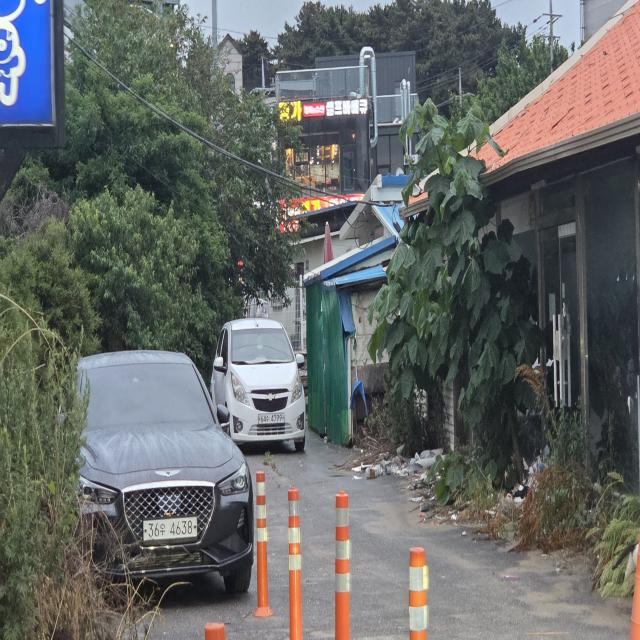car: (52, 329, 272, 605), (202, 310, 313, 466)
